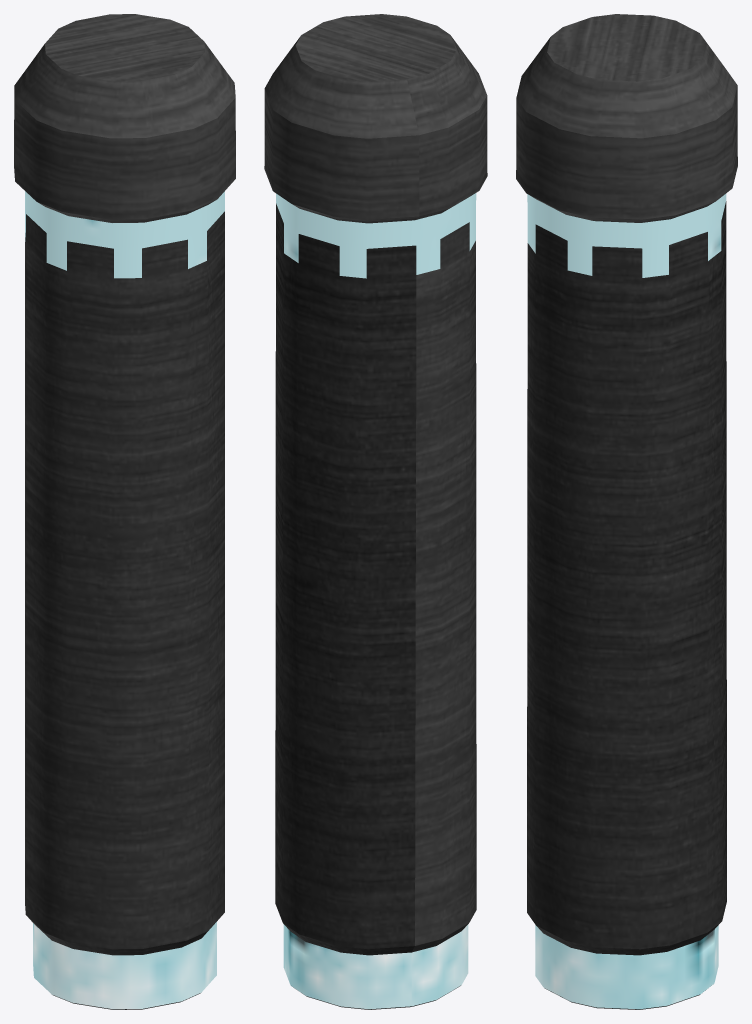
File: propFenceSmall.glb
3 renders of one model, left to right at view 1: azimuth 30°, elevation 25°; view 2: azimuth 150°, elevation 25°; view 3: azimuth 270°, elevation 25°, orthographic.
Parts seen in each view (by area): view 1: propFenceSmall, PF_Generic_FenceCap (9).002_M_Emissive_Engineering.017_0; view 2: propFenceSmall, PF_Generic_FenceCap (9).002_M_Emissive_Engineering.017_0; view 3: propFenceSmall, PF_Generic_FenceCap (9).002_M_Emissive_Engineering.017_0.
Boxes of the visible parts, bbox=[...] form: propFenceSmall: bbox=[14, 14, 235, 1009]; PF_Generic_FenceCap (9).002_M_Emissive_Engineering.017_0: bbox=[25, 191, 224, 1009]; propFenceSmall: bbox=[264, 14, 487, 1009]; PF_Generic_FenceCap (9).002_M_Emissive_Engineering.017_0: bbox=[276, 193, 476, 1009]; propFenceSmall: bbox=[516, 14, 737, 1009]; PF_Generic_FenceCap (9).002_M_Emissive_Engineering.017_0: bbox=[527, 193, 726, 1009].
Bounding box in the file's own units: 0.2165 × 0.9958 × 0.2166.
2 materials, 2 textured.
